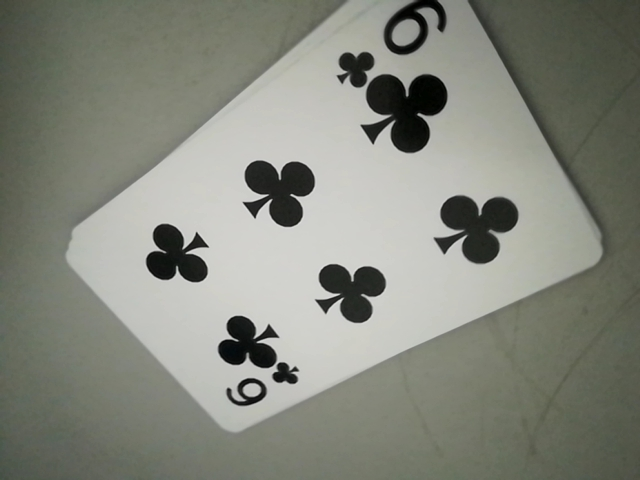mh 6: (338, 0, 455, 84), (218, 358, 305, 418)
